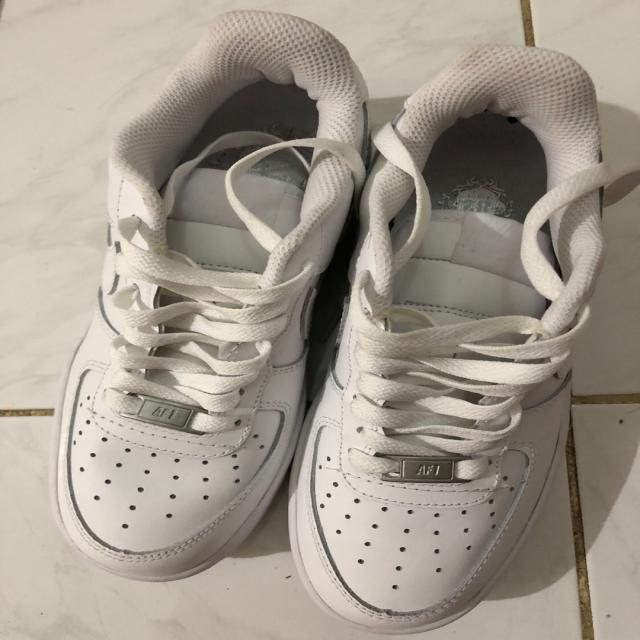nike fake air force: (274, 44, 608, 636), (52, 8, 364, 586)
